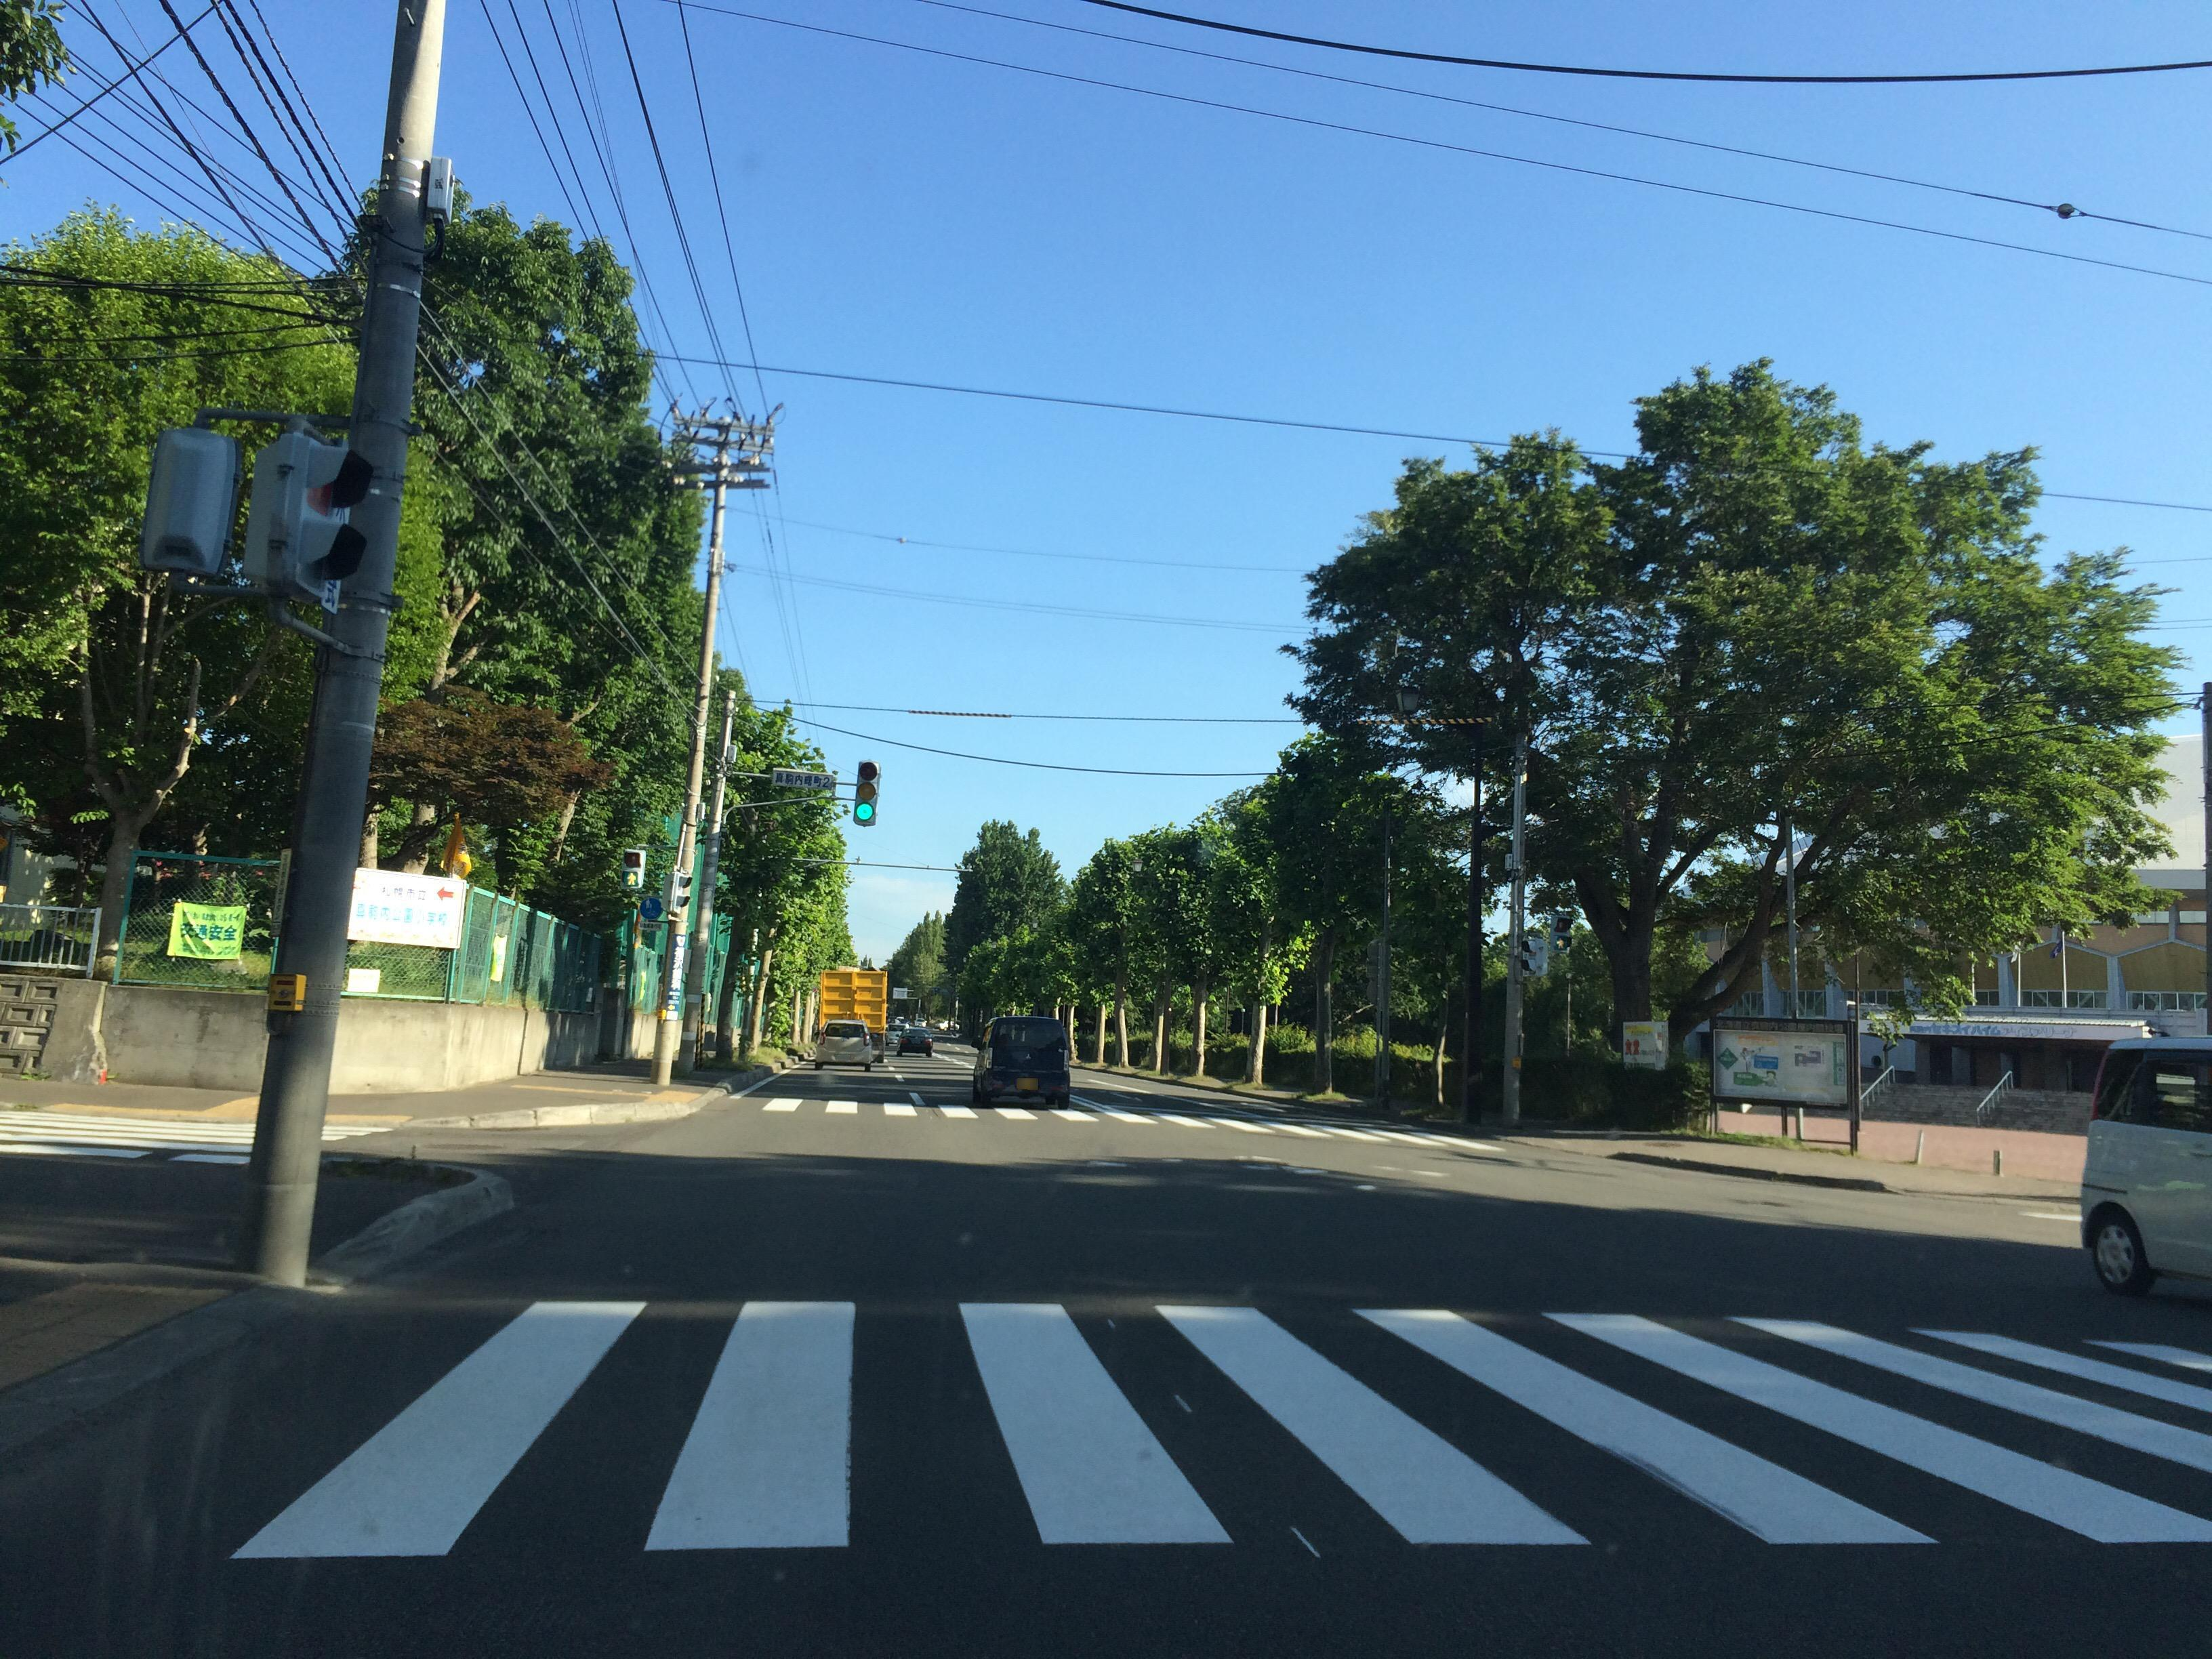vinyl banner: (146, 885, 256, 964)
